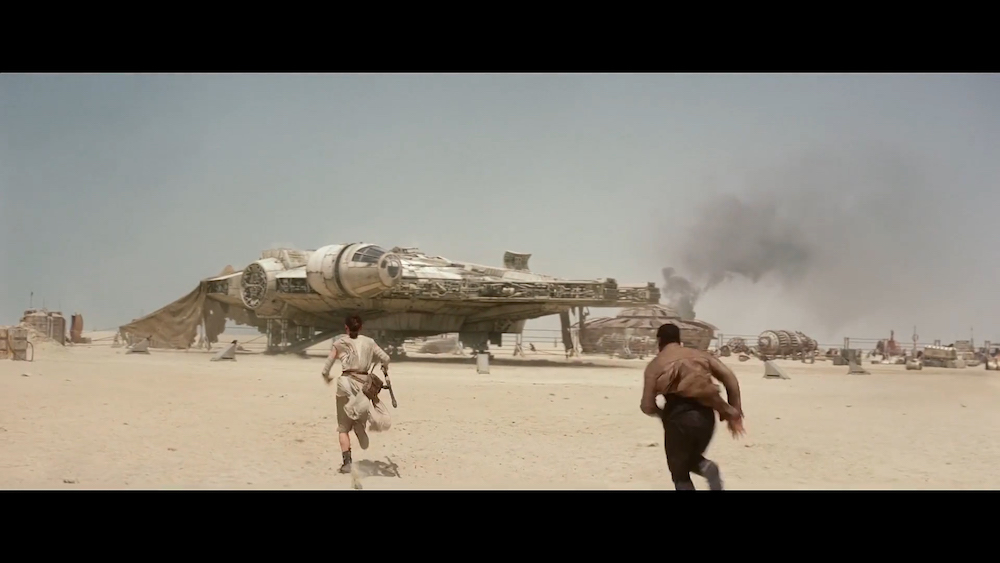Millennium Falcon: (200, 242, 660, 335)
